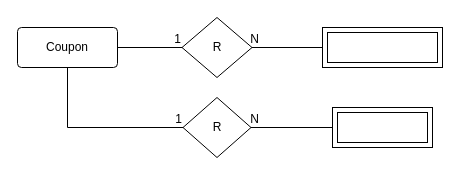
This 460x175 diagram has some shape labels left out. Each missing label, with the centre of its shape:
CouponCourse: (382,47)
CouponUser: (382,127)
